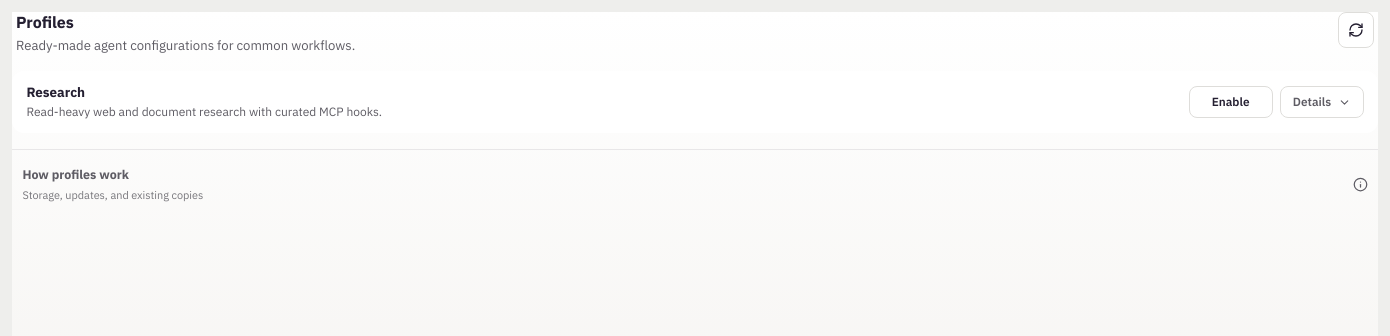
Test: ProfilesSettingsPanel › explains technical behavior only on request
Expected: the heading "Research" is shown, [26,83,85,101]
Expected: the text "Profiles are stored as TOML" is not shown
Click the button "How profiles work Storage, updates, and existing copies" at (76,174), box [12,156,1378,214]
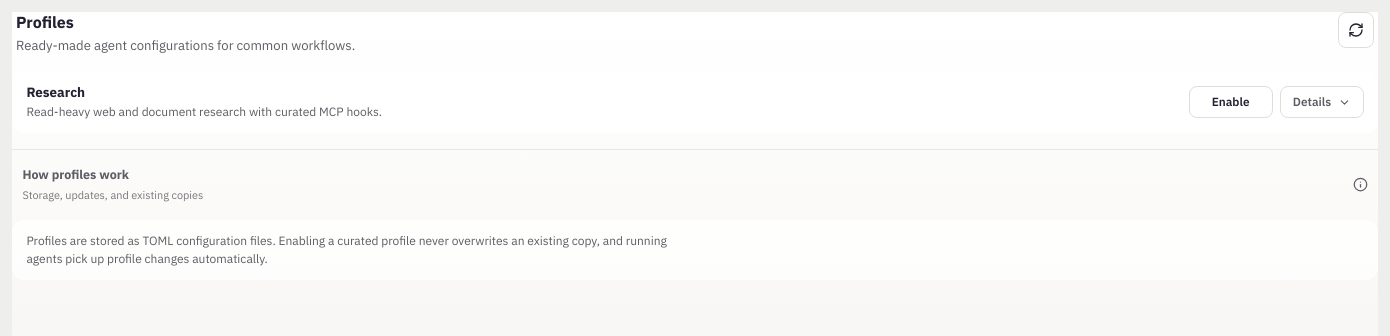
Result: the text "Profiles are stored as TOML" is shown at [26,233,667,266]
